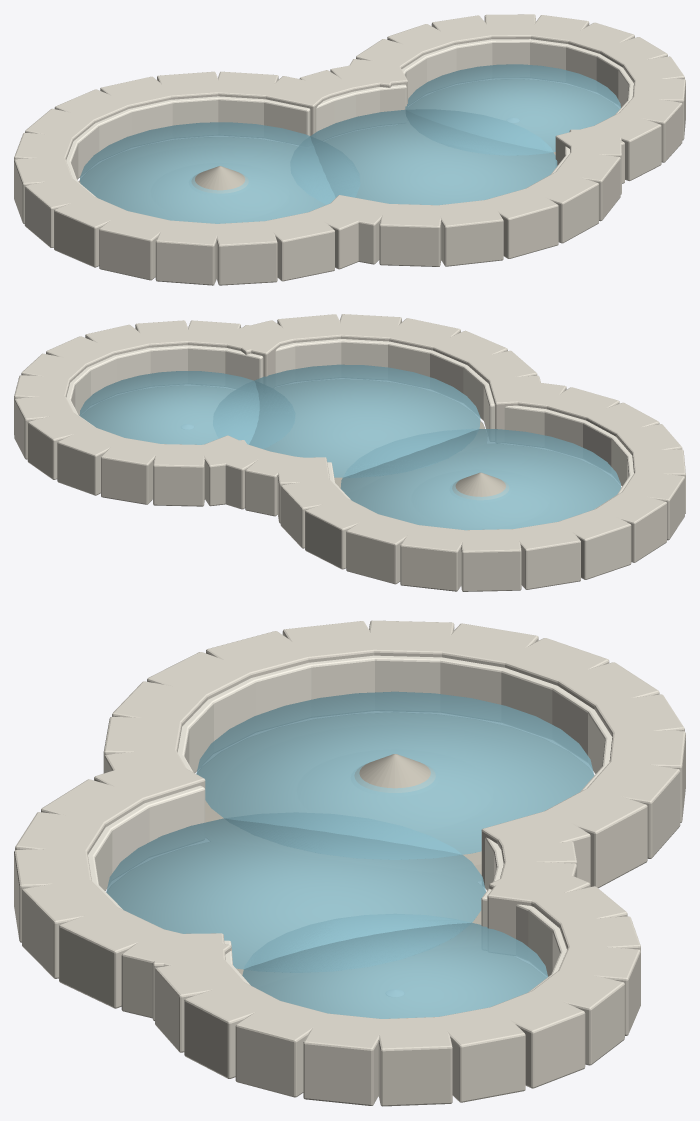
Rendered from pool_lagoon.glb.
3 renders of one model, top to bottom at view 1: azimuth 30°, elevation 25°; view 2: azimuth 150°, elevation 25°; view 3: azimuth 270°, elevation 25°, orthographic. The views are drawn at different scales.
Visible parts, largest first — view 1: Tint, Water, Lagoon wall.014, Lagoon wall.012, Lagoon wall.013, Beach shelf.002, Lagoon wall.011, Lagoon wall.030, Lagoon wall.029, Lagoon wall.010, Lagoon wall.031, Lagoon wall.032 (+8 smaller); view 2: Tint, Water, Lagoon wall.016, Lagoon wall.017, Beach shelf.002, Lagoon wall.018, Lagoon wall.001, Lagoon wall, Lagoon wall.038, Lagoon wall.036, Lagoon wall.037, Lagoon wall.019 (+8 smaller); view 3: Tint, Water, Lagoon wall.006, Lagoon wall.005, Beach shelf.002, Lagoon wall.007, Lagoon wall.021, Lagoon wall.004, Lagoon wall.008, Lagoon wall.003, Lagoon wall.020, Lagoon wall.009 (+4 smaller).
Part boxes in pixels (bbox=[...]): Tint: bbox=[14, 14, 685, 285]; Water: bbox=[80, 64, 620, 223]; Lagoon wall.014: bbox=[264, 99, 310, 135]; Lagoon wall.012: bbox=[171, 96, 218, 125]; Lagoon wall.013: bbox=[217, 96, 265, 125]; Beach shelf.002: bbox=[191, 166, 248, 193]; Lagoon wall.011: bbox=[130, 100, 172, 135]; Lagoon wall.030: bbox=[492, 39, 530, 65]; Lagoon wall.029: bbox=[455, 39, 492, 70]; Lagoon wall.010: bbox=[96, 109, 131, 151]; Lagoon wall.031: bbox=[530, 39, 567, 69]; Lagoon wall.032: bbox=[566, 44, 599, 80]; Tint: bbox=[14, 314, 685, 591]; Water: bbox=[79, 364, 620, 530]; Lagoon wall.016: bbox=[293, 339, 341, 369]; Lagoon wall.017: bbox=[341, 339, 389, 367]; Beach shelf.002: bbox=[452, 472, 509, 500]; Lagoon wall.018: bbox=[388, 341, 432, 376]; Lagoon wall.001: bbox=[544, 409, 585, 447]; Lagoon wall: bbox=[504, 405, 545, 435]; Lagoon wall.038: bbox=[225, 348, 263, 380]; Lagoon wall.036: bbox=[149, 345, 188, 373]; Lagoon wall.037: bbox=[188, 345, 226, 373]; Lagoon wall.019: bbox=[430, 351, 467, 393]; Tint: bbox=[14, 620, 685, 1106]; Water: bbox=[106, 691, 594, 1018]; Lagoon wall.006: bbox=[374, 655, 442, 693]; Lagoon wall.005: bbox=[308, 655, 375, 699]; Beach shelf.002: bbox=[354, 754, 435, 792]; Lagoon wall.007: bbox=[440, 657, 504, 704]; Lagoon wall.021: bbox=[145, 785, 205, 841]; Lagoon wall.004: bbox=[252, 663, 311, 715]; Lagoon wall.008: bbox=[501, 668, 557, 724]; Lagoon wall.003: bbox=[208, 678, 255, 741]; Lagoon wall.020: bbox=[105, 803, 149, 873]; Lagoon wall.009: bbox=[552, 686, 594, 755].
Bounding box in the file's own units: 5.55 × 0.35 × 3.67.
